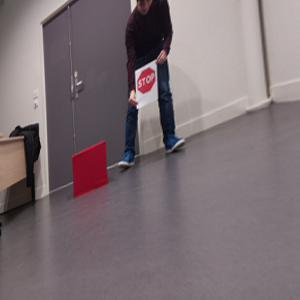stop: (137, 68, 156, 93)
